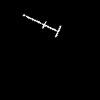double_crochet: (23, 15, 60, 36)
